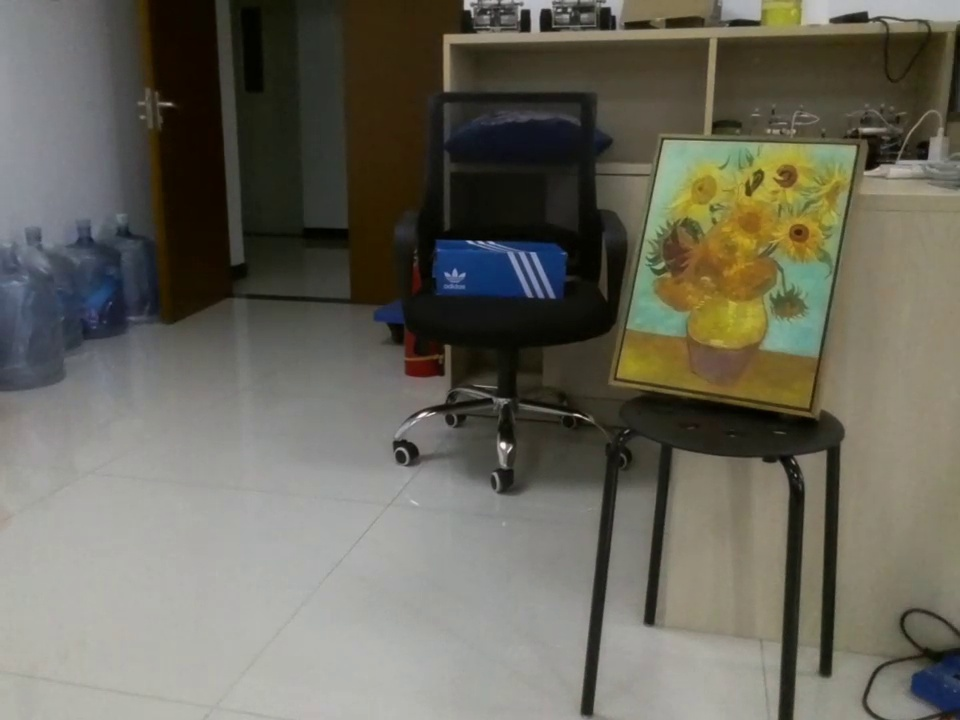painting: (614, 135, 870, 422)
